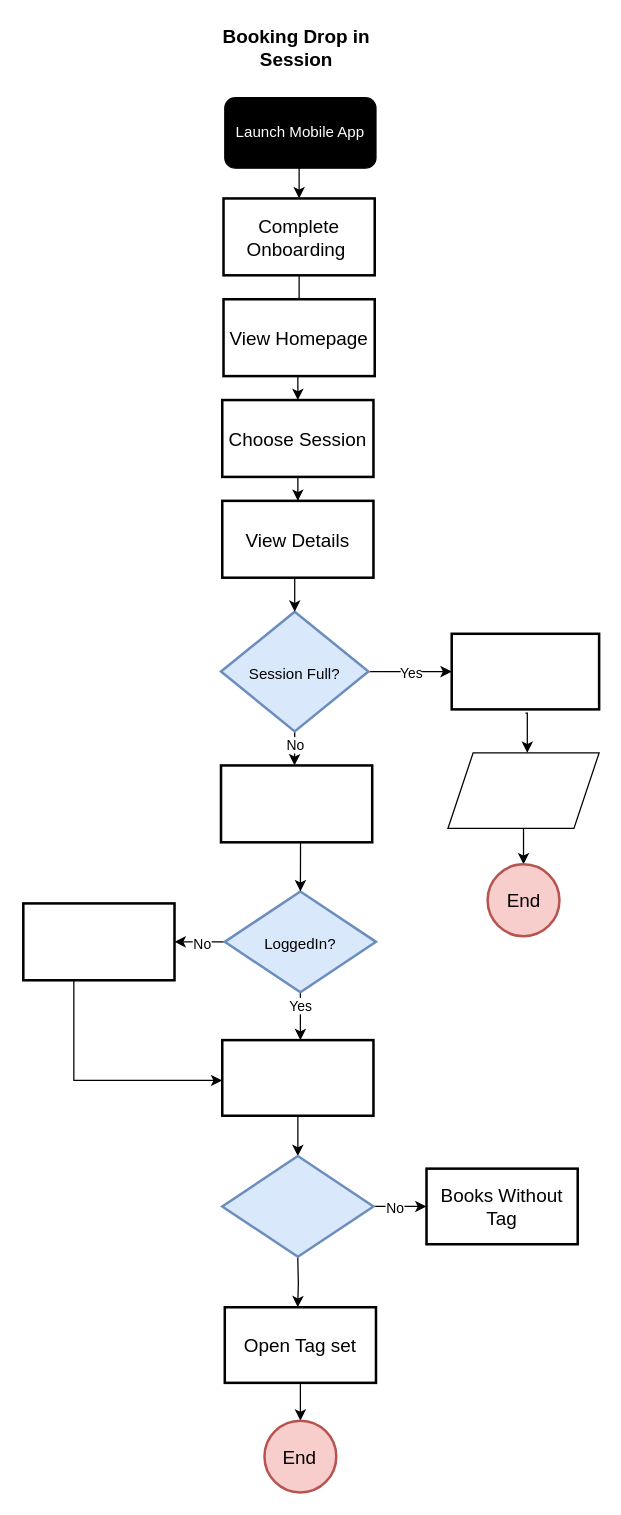
Some shapes in this 621 by 1515 pixel diagram are drawn without their labels. The centre of each missing label's shape, as x and y in pixels:
Book Session: pixel 296 803
Booking Confirmed: pixel 297 1077
Join Waitlist: pixel 525 671
Login/SignUp: pixel 98 941
Open for Pairing?: pixel 297 1205
Waitlisted Confirmed: pixel 523 790
